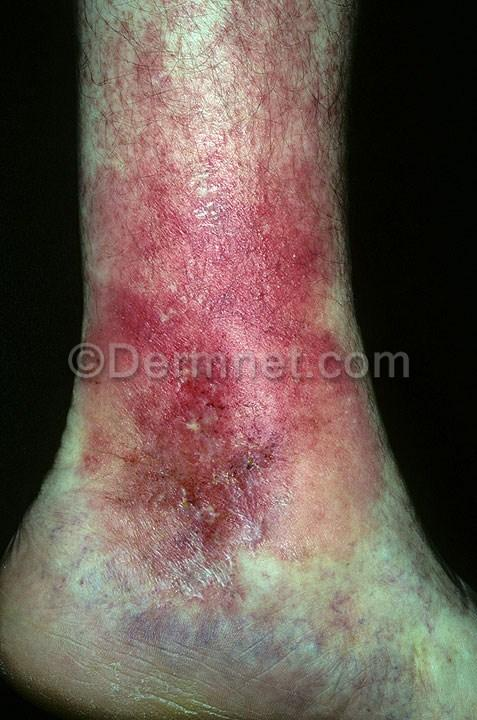Eczema: (232, 177, 335, 304), (80, 18, 187, 120), (127, 105, 219, 223), (253, 373, 353, 477), (78, 244, 167, 358), (182, 0, 275, 109), (71, 444, 174, 539), (173, 509, 273, 601), (175, 420, 274, 509), (178, 310, 260, 416), (155, 213, 241, 310), (83, 126, 156, 239), (81, 354, 167, 446), (298, 612, 377, 702), (251, 290, 332, 377), (218, 115, 283, 222), (276, 466, 370, 538), (194, 597, 268, 680), (93, 534, 169, 613), (280, 93, 346, 182), (252, 607, 315, 697), (134, 592, 211, 665), (275, 0, 335, 92), (381, 518, 442, 589), (367, 655, 432, 720), (33, 503, 90, 566), (345, 397, 387, 476), (405, 581, 462, 635), (273, 692, 370, 720), (325, 573, 378, 624), (26, 561, 81, 610), (89, 611, 134, 662), (282, 577, 333, 621), (433, 641, 473, 678)
